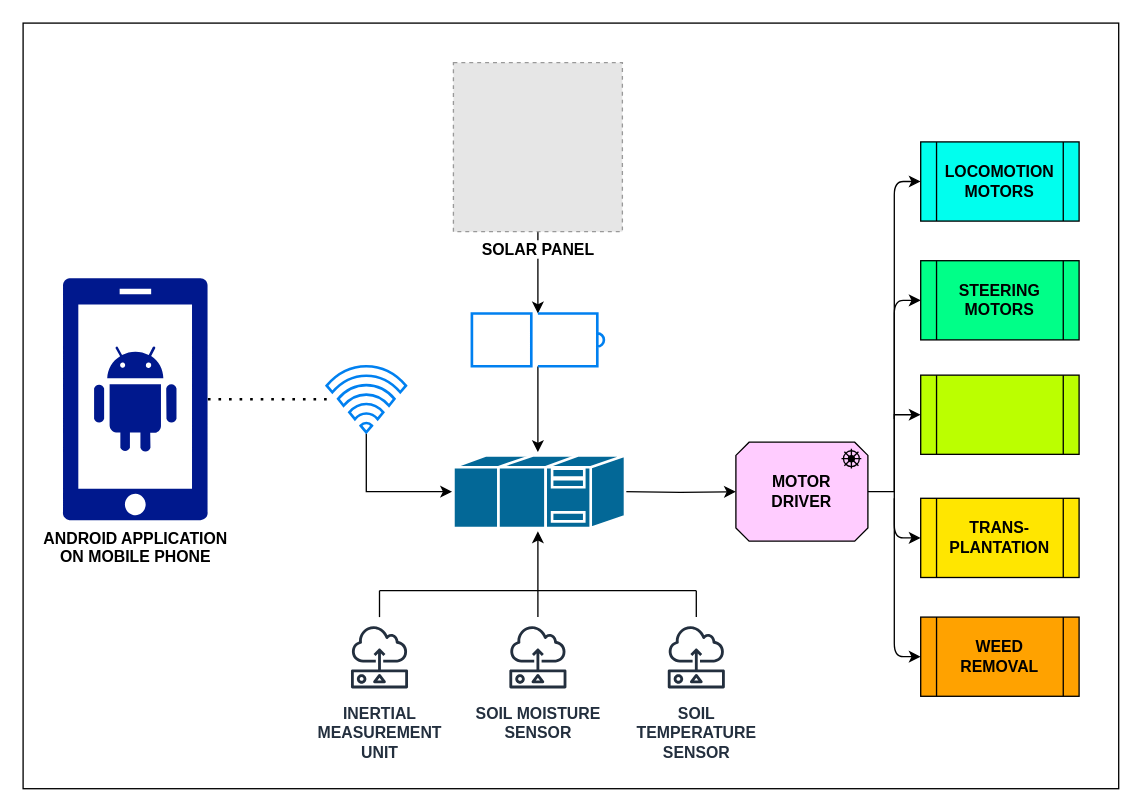
Image size: 1142x812. Some labels were removed from this diagram. Grey dashed boxes stand in for pictures. The centre of each missing label's shape, as x and y in pixels:
DC BATTERY: point (537, 339)
MICROCONTROLLER: point (538, 491)
SEED METERING: point (999, 414)
WIFI MODULE: point (366, 398)
